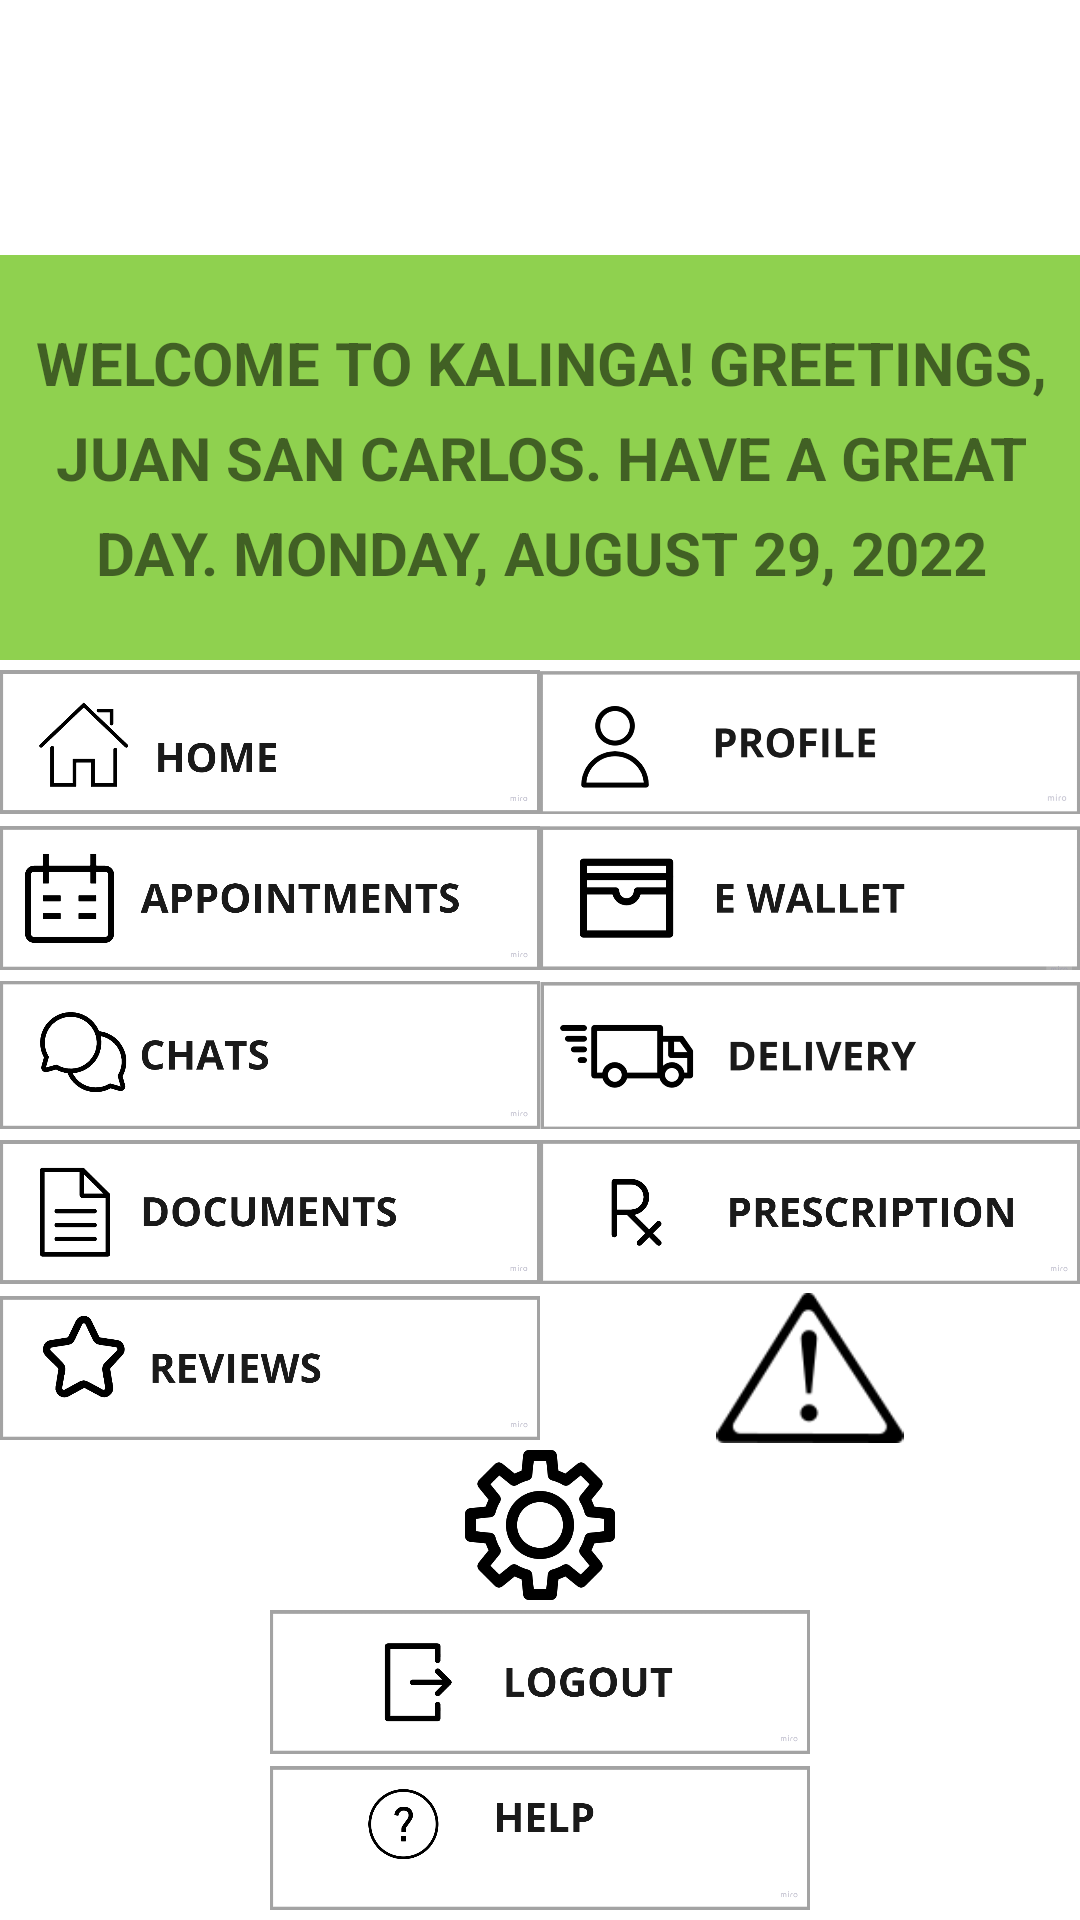

Icons on this 1080 × 1920 Android screen, each with its box as [x1,y1,x2,y2]:
report: [716,1293,904,1443]
settings: [465,1450,615,1600]
